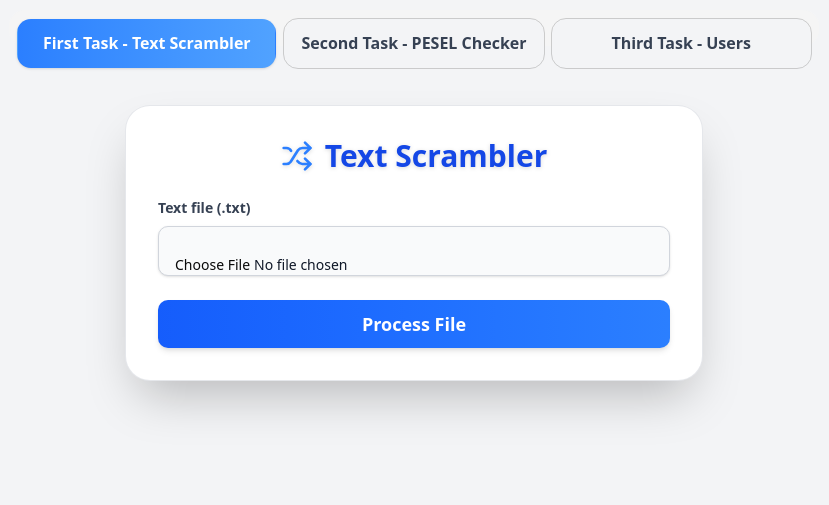
Test: TaskTabs › switches from TextScrambler to PeselChecker when clicking tab
The width and height of the screenshot is (829, 505).
Expected: the element with test id "text-scrambler-container" is shown, [126,106,702,380]
Click the tab "Second Task - PESEL Checker".
click(414, 43)  # box [284,18,544,68]
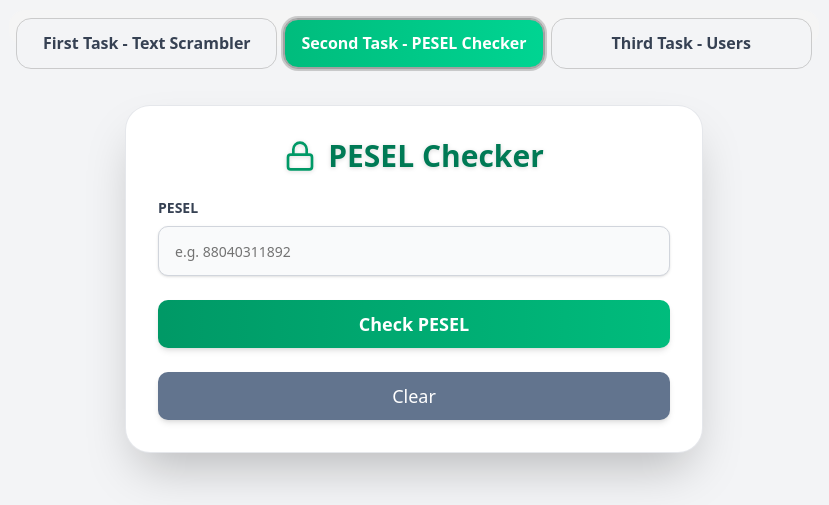
Expected: the element with test id "pesel-checker-container" is shown, [126,106,702,452]
